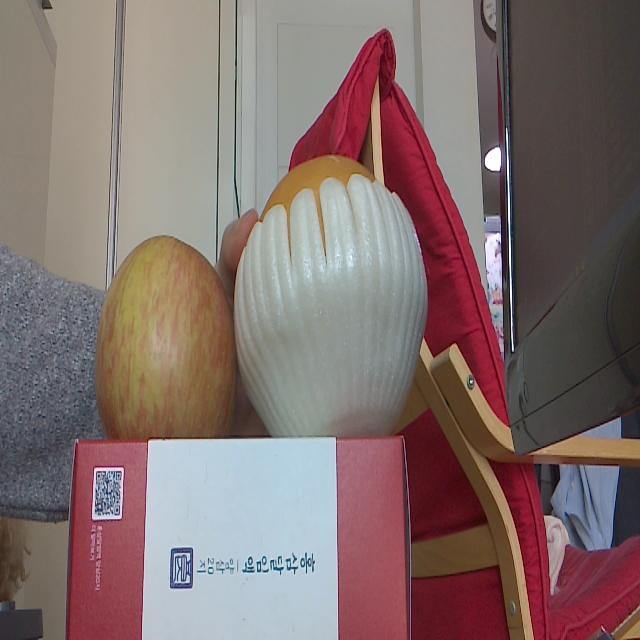apple: (96, 235, 234, 439)
pear: (235, 149, 426, 434)
